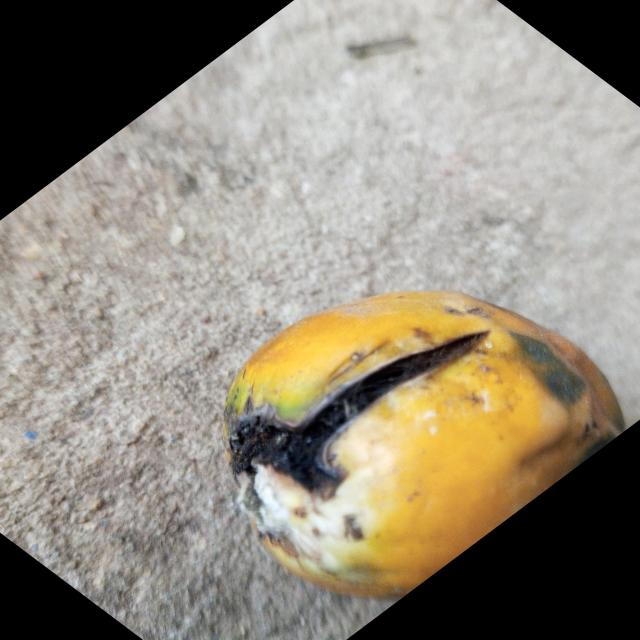damaged: (224, 292, 623, 596)
